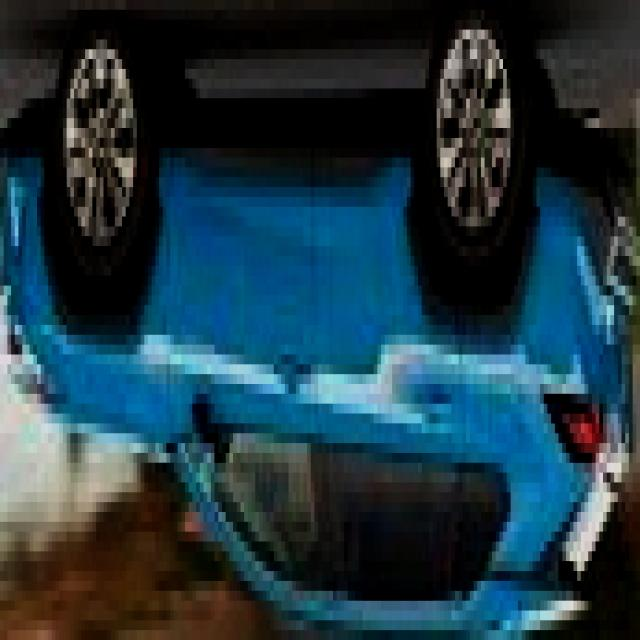blue: (7, 0, 640, 618)
